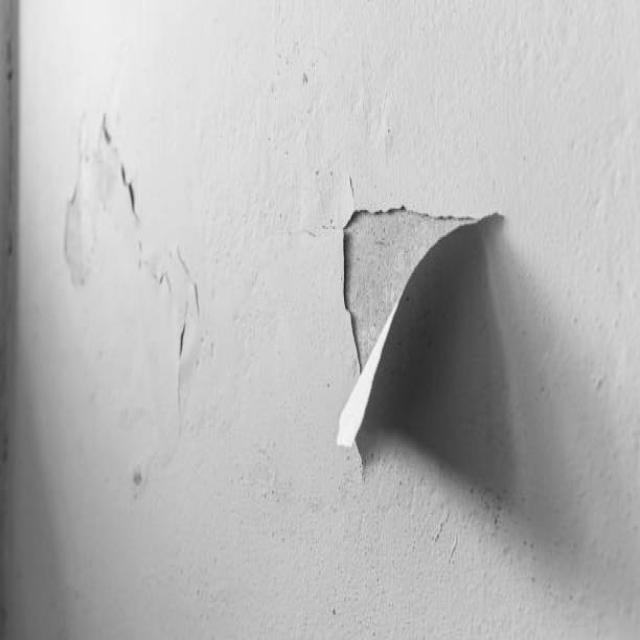peeling paint: (48, 80, 557, 511)
